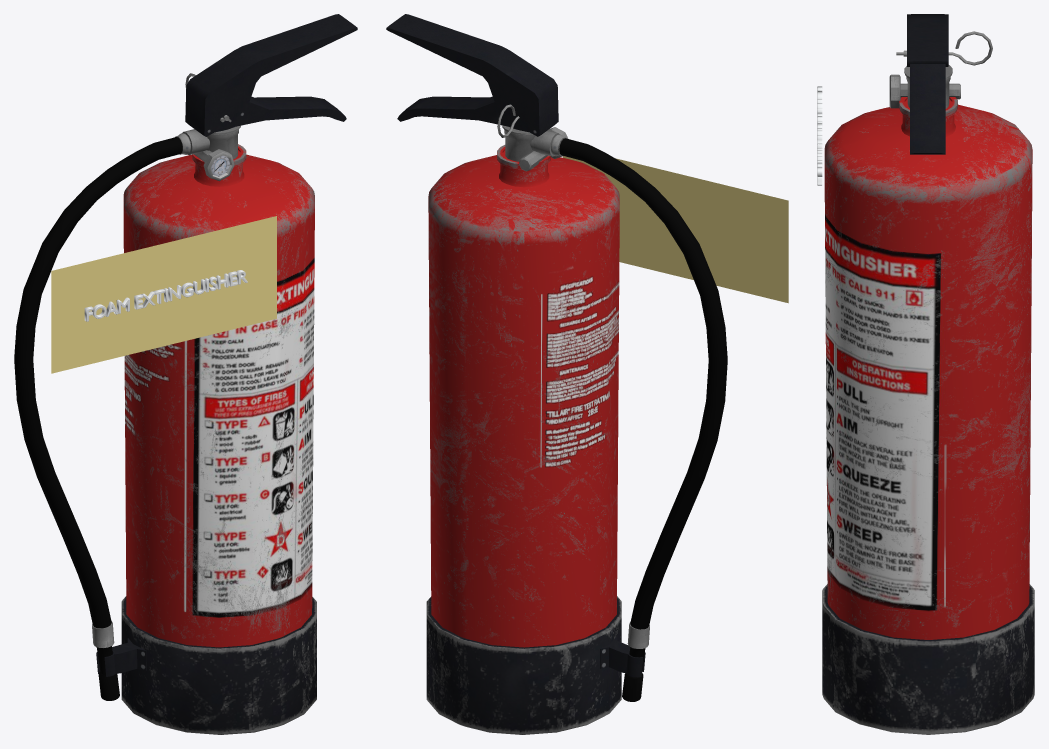
The model's file is extinguisher-foam.glb.
3 renders of one model, left to right at view 1: azimuth 30°, elevation 25°; view 2: azimuth 150°, elevation 25°; view 3: azimuth 270°, elevation 25°, orthographic. The views are drawn at different scales.
Parts seen in each view (by area): view 1: Fire_Extinguisher, Colour_Band, Extinguisher_Name; view 2: Fire_Extinguisher, Colour_Band; view 3: Fire_Extinguisher, Extinguisher_Name.
Boxes of the visible parts, bbox=[...] form: Fire_Extinguisher: bbox=[14, 14, 357, 734]; Colour_Band: bbox=[51, 216, 276, 373]; Extinguisher_Name: bbox=[84, 270, 247, 321]; Fire_Extinguisher: bbox=[386, 14, 727, 734]; Colour_Band: bbox=[563, 156, 788, 303]; Fire_Extinguisher: bbox=[822, 14, 1034, 734]; Extinguisher_Name: bbox=[817, 86, 822, 185].
Bounding box in the file's own units: 0.4163 × 0.7408 × 0.2089.
Materials: 3 (1 with a texture image).
